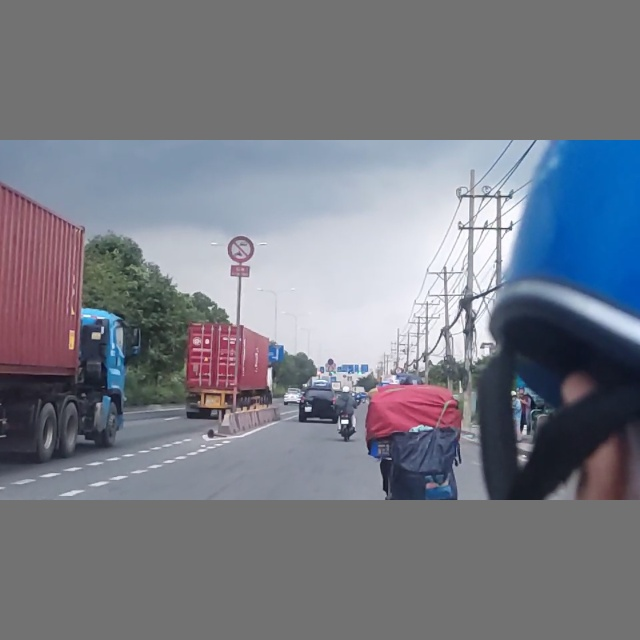P.111: (228, 236, 255, 263)
